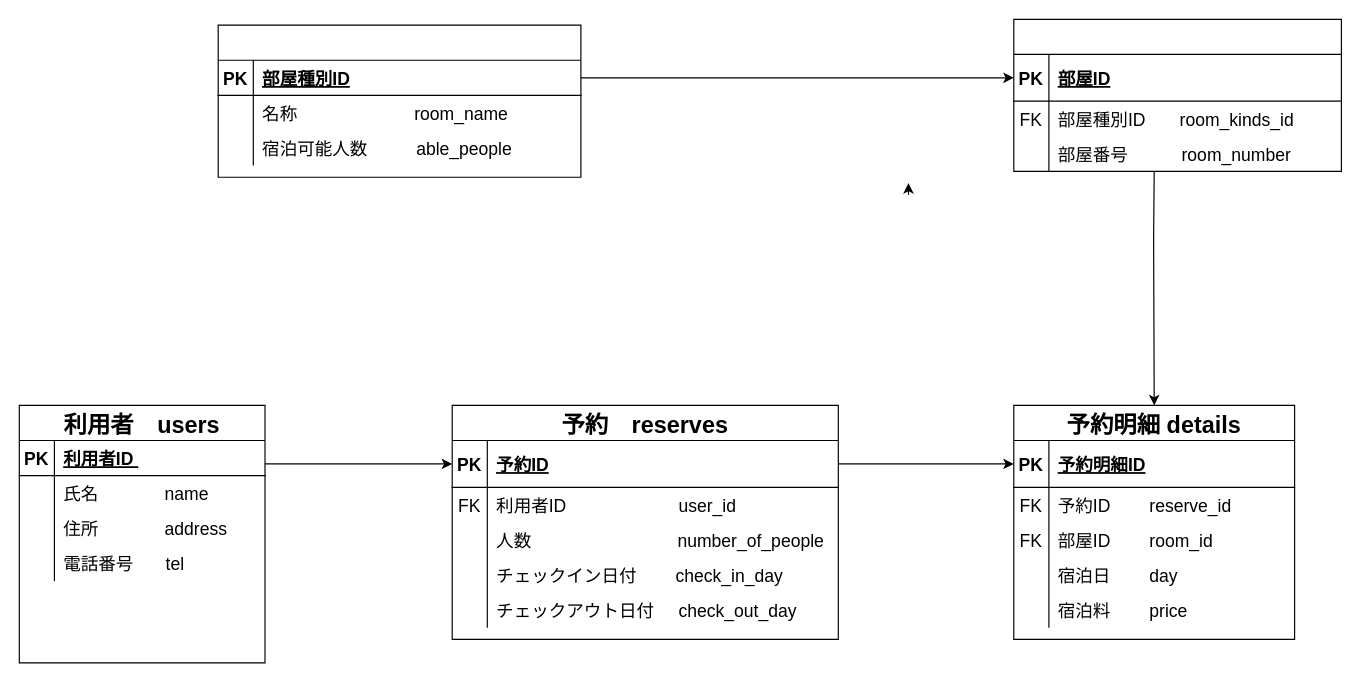
This 1361x682 diagram has some shape labels left out. Here are the shapes that lost their labels. From the top down, the box of each, then its label:
(217, 24, 581, 177): 部屋種別マスタ masutas
(1013, 18, 1341, 171): 部屋 rooms
